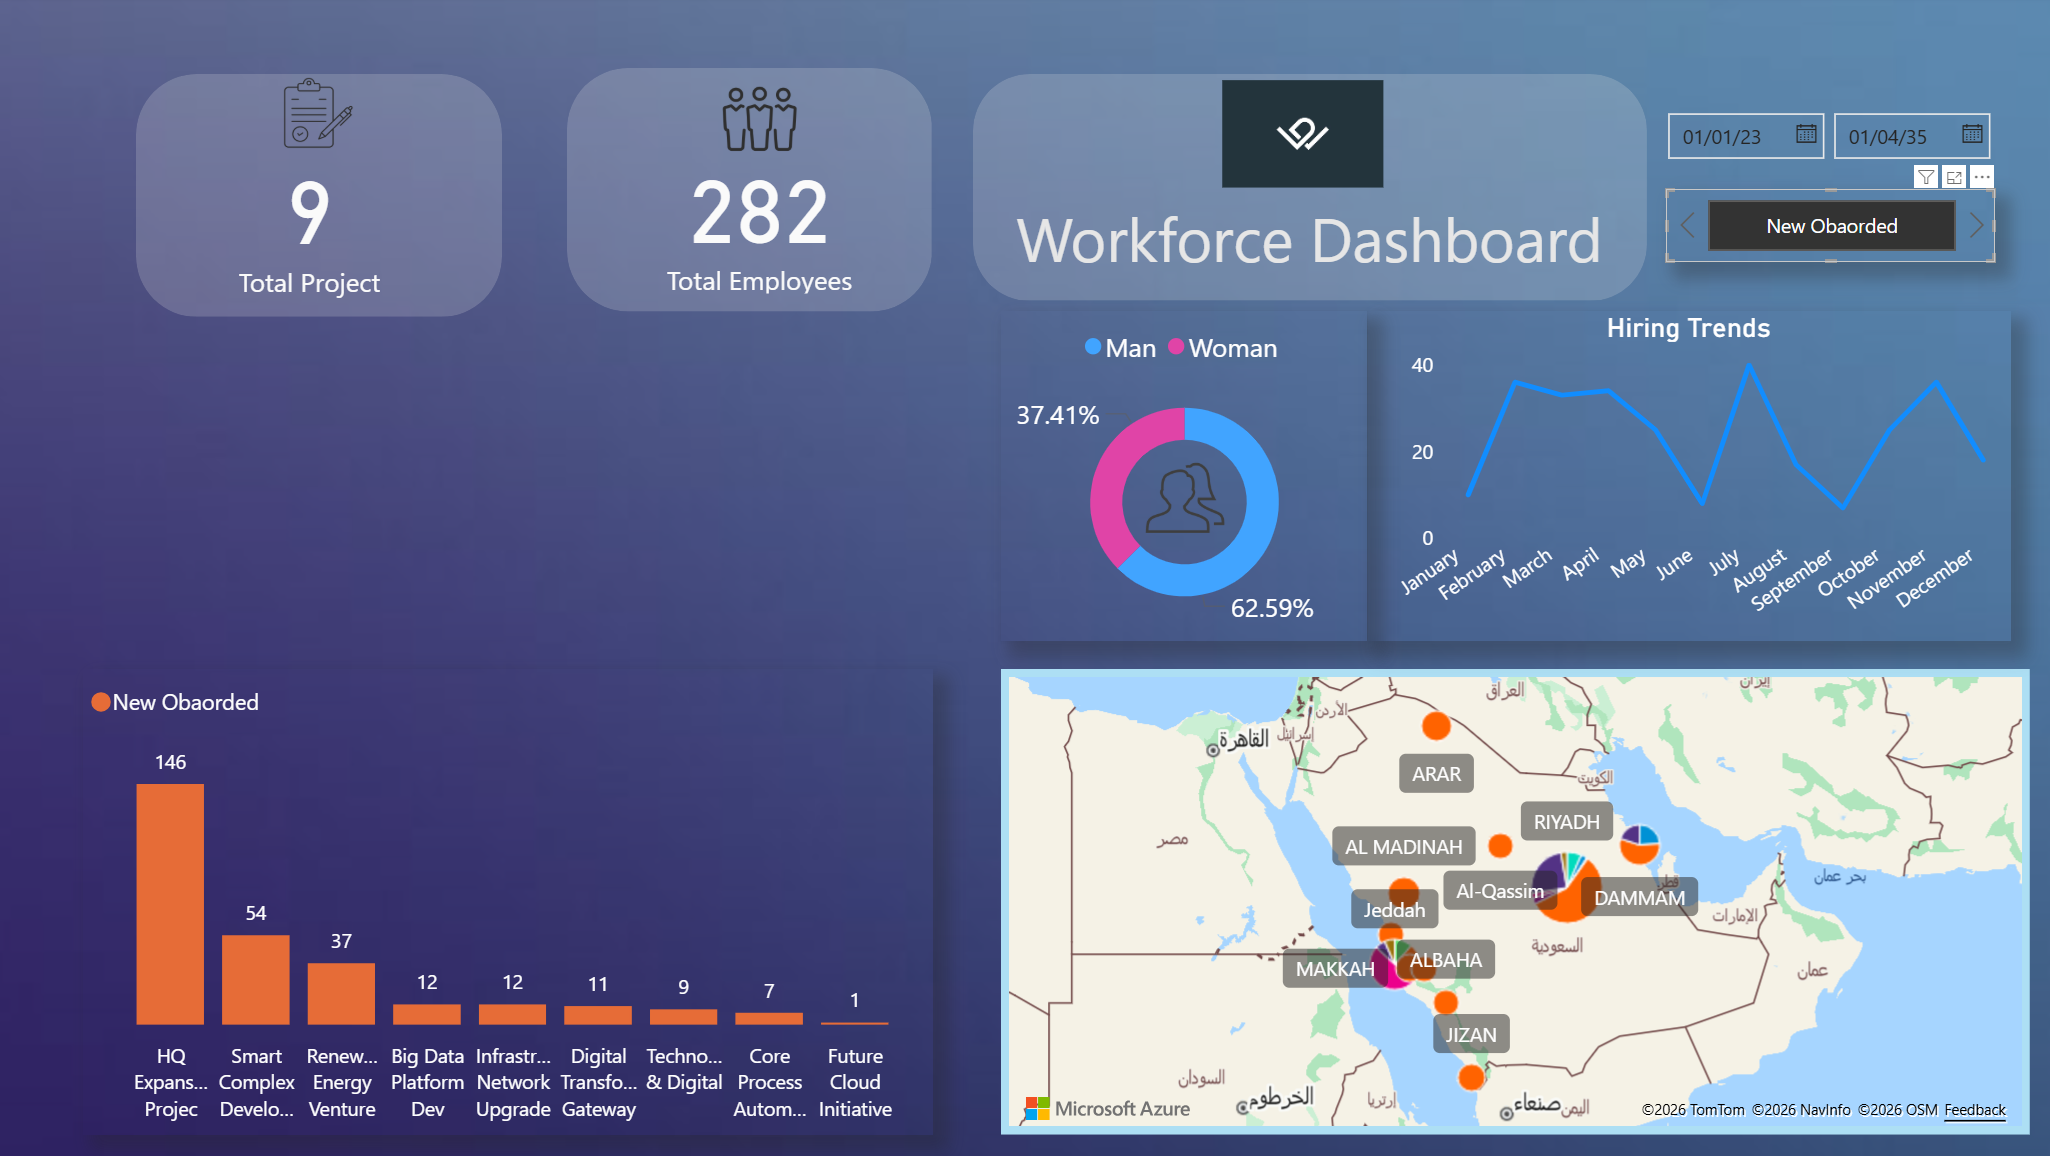

The page's visual inventory and layout, read from the dashboard file:
{"tool":"powerbi","page":{"name":"Page ١","canvas":[1280,720],"ordinal":0},"visuals":[{"type":"clusteredColumnChart","fields":{"Y":["CountNonNull(Manpower.NAME)"],"Series":["Manpower.Status"],"Category":["Manpower.Project"]},"box":[63.3,412.8,521.6,285.7],"z":0},{"type":"donutChart","fields":{"Category":["Manpower.Gender"],"Y":["Count(Manpower.NAME)"]},"box":[627.2,192.9,225.5,202.7],"z":1000},{"type":"azureMap","fields":{"Size":["CountNonNull(Manpower.NAME)"],"Category":["Manpower.Location"],"Series":["Manpower.Project"],"Y":["Avg(Manpower.lat)"],"X":["Avg(Manpower.lng)"]},"box":[627.3,412.6,632.2,285.9],"z":2000},{"type":"card","fields":{"Values":["Count(Manpower.Project)"]},"box":[117,74.8,171.3,123.1],"z":3000},{"type":"card","fields":{"Values":["Count(Manpower.NAME)"]},"box":[399.3,84.5,159.3,102.5],"z":4000},{"type":"image","box":[427.1,47.1,103.8,55.5],"z":5000},{"type":"image","box":[158,43.4,100.1,55.5],"z":6000},{"type":"image","box":[690.1,275.1,100.1,59.1],"z":7000},{"type":"slicer","fields":{"Values":["Manpower.Status"]},"box":[1035.8,118,202.1,44.8],"z":8000},{"type":"lineChart","title":"Hiring Trends","fields":{"Category":["Manpower.Hiring Date.Variation.Date Hierarchy.Month"],"Y":["CountNonNull(Manpower.ID Number)"]},"box":[853,193,394.5,202.7],"z":9000},{"type":"shape","box":[95.8,47.3,224.8,149.3],"z":10000},{"type":"shape","box":[360.7,43.4,224.4,149.6],"z":11000},{"type":"slicer","fields":{"Values":["Manpower.Hiring Date"]},"box":[1024.1,61.4,223,44.8],"z":12000},{"type":"shape","box":[610,47.3,414.1,139.5],"z":13000},{"type":"textbox","box":[631.5,118,392.6,70.6],"z":14000},{"type":"image","box":[675.2,46.1,274.6,76.2],"z":15000}]}

Visuals, with their boxes in screenshot pixels (x1, y1, x2, y2), scaled from the page's 1280x720 canvas onto the 2050x1156 screenshot:
clusteredColumnChart - CountNonNull(Manpower.NAME) x Manpower.Status: region(101, 663, 937, 1121)
donutChart - Manpower.Gender x Count(Manpower.NAME): region(1005, 310, 1366, 635)
azureMap - CountNonNull(Manpower.NAME) x Manpower.Location: region(1005, 662, 2017, 1121)
card - Count(Manpower.Project): region(187, 120, 462, 318)
card - Count(Manpower.NAME): region(640, 136, 895, 300)
image: region(684, 76, 850, 165)
image: region(253, 70, 413, 159)
image: region(1105, 442, 1266, 537)
slicer - Manpower.Status: region(1659, 189, 1983, 261)
"Hiring Trends" lineChart: region(1366, 310, 1998, 635)
shape: region(153, 76, 513, 316)
shape: region(578, 70, 937, 310)
slicer - Manpower.Hiring Date: region(1640, 99, 1997, 171)
shape: region(977, 76, 1640, 300)
textbox: region(1011, 189, 1640, 303)
image: region(1081, 74, 1521, 196)
